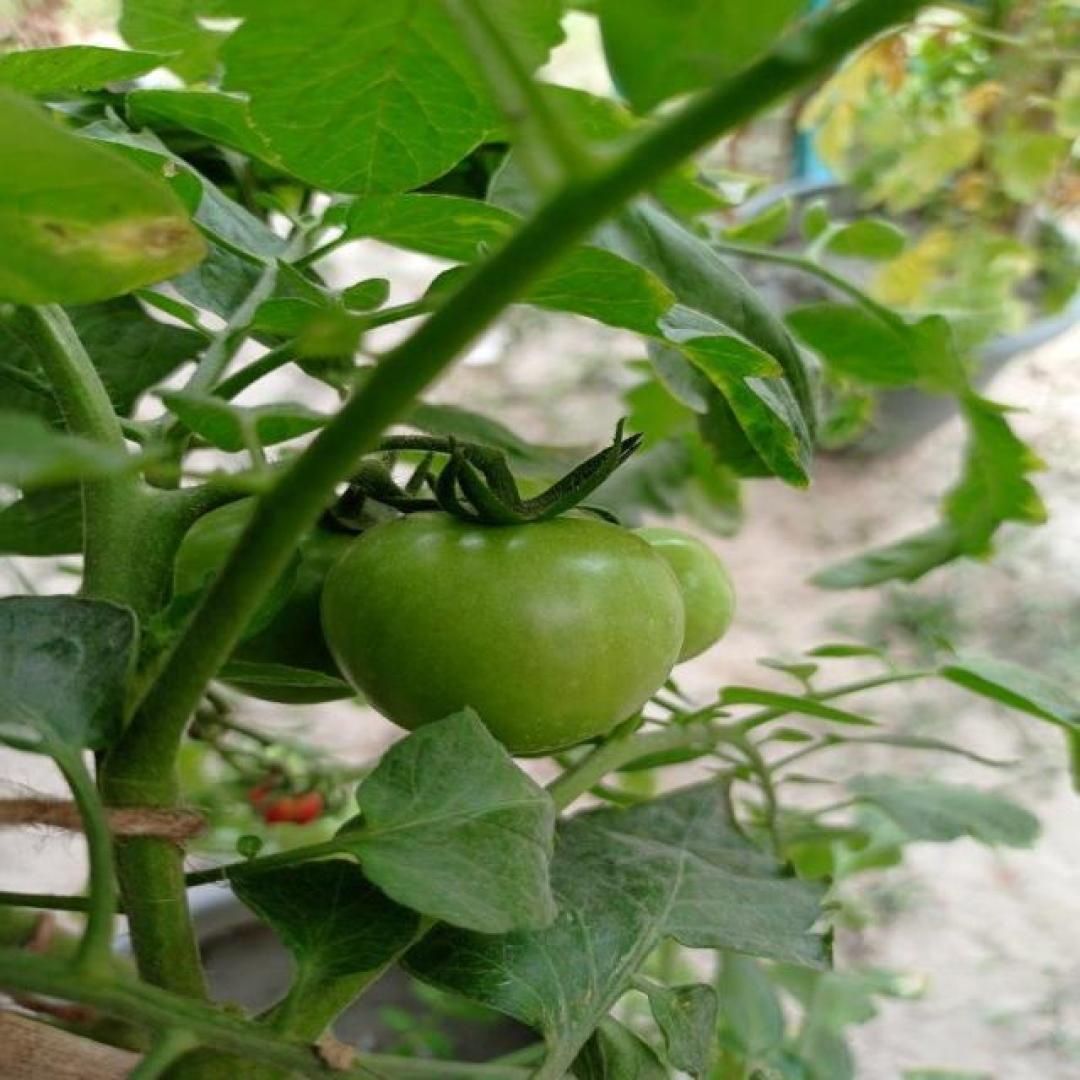mentah: (316, 496, 688, 756)
